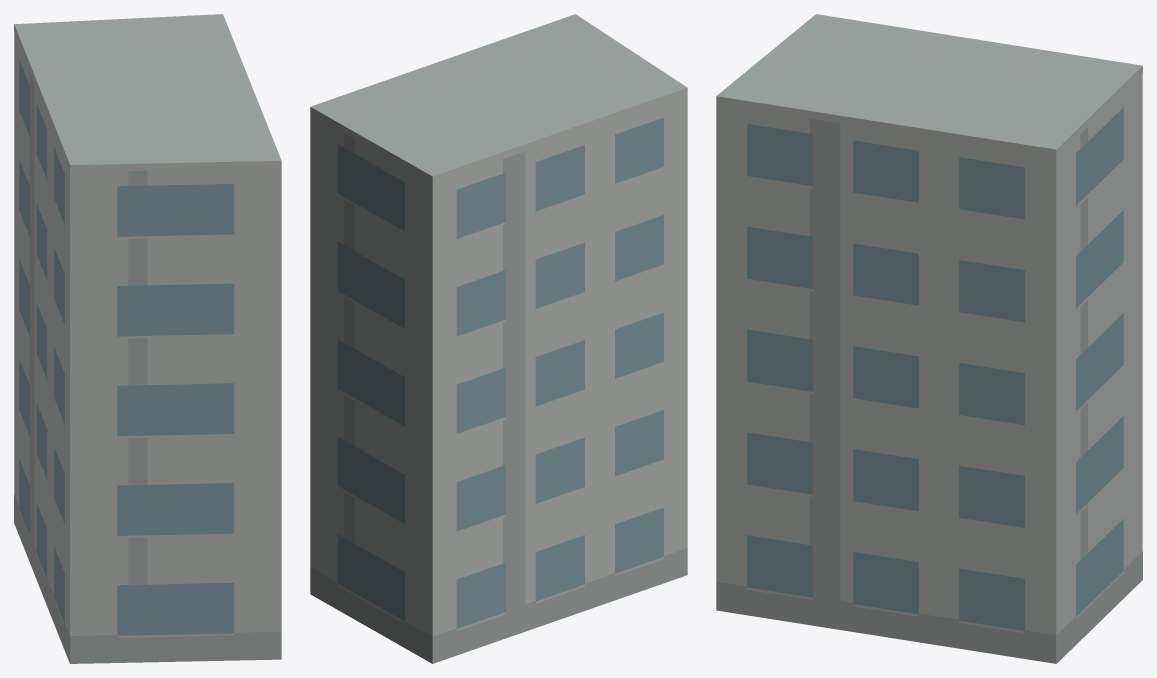
Rendered from survey-upis-32837658.glb.
The picture shows the model from 3 angles, left to right: view 1: azimuth 30°, elevation 25°; view 2: azimuth 150°, elevation 25°; view 3: azimuth 270°, elevation 25°; orthographic projection. The views are drawn at different scales.
Parts seen in each view (by area): view 1: survey-upis-32837658.tmp; view 2: survey-upis-32837658.tmp; view 3: survey-upis-32837658.tmp.
Part boxes in pixels (x1,y1,x2,y2): survey-upis-32837658.tmp: (14,14,281,663); survey-upis-32837658.tmp: (310,14,687,663); survey-upis-32837658.tmp: (716,14,1142,663).
Bounding box in the file's own units: 9.45 × 16.7 × 12.56.
